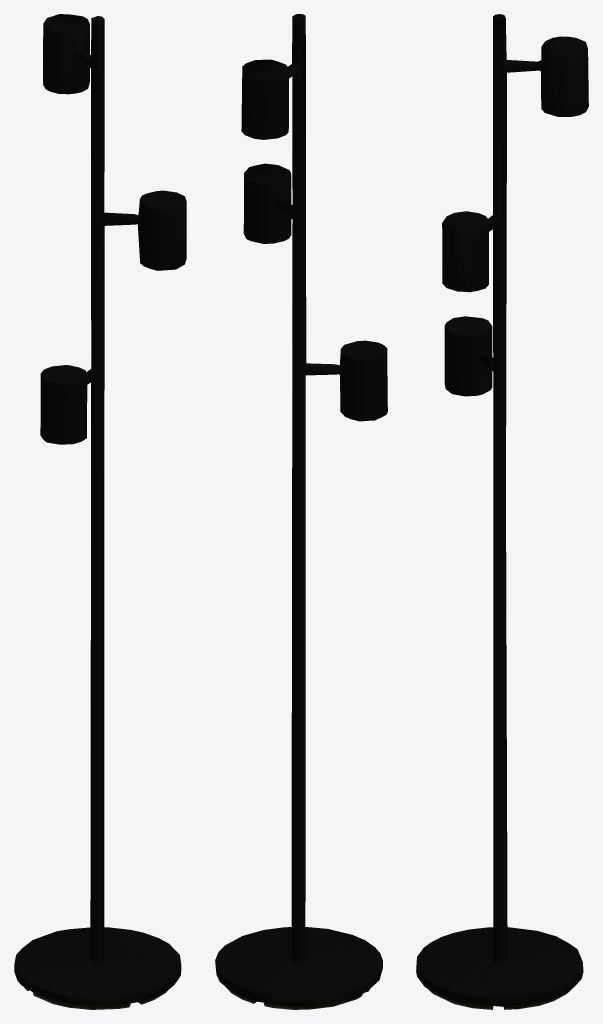
The model's file is nymane_lampa_podogowa_z_3_reflektorami_80477734.glb.
3 views of the same model, side by side, from view 1: azimuth 30°, elevation 25°; view 2: azimuth 150°, elevation 25°; view 3: azimuth 270°, elevation 25° (orthographic).
Parts seen in each view (by area): view 1: nymane_lampa_podogowa_z_3_reflektorami_80477734; view 2: nymane_lampa_podogowa_z_3_reflektorami_80477734; view 3: nymane_lampa_podogowa_z_3_reflektorami_80477734.
Part boxes in pixels (x1,y1,x2,y2): nymane_lampa_podogowa_z_3_reflektorami_80477734: [14, 14, 186, 1009]; nymane_lampa_podogowa_z_3_reflektorami_80477734: [215, 14, 387, 1009]; nymane_lampa_podogowa_z_3_reflektorami_80477734: [416, 14, 588, 1009].
Size of the model in its own units: 0.2497 by 1.58 by 0.2577.
1 material, 1 textured.
